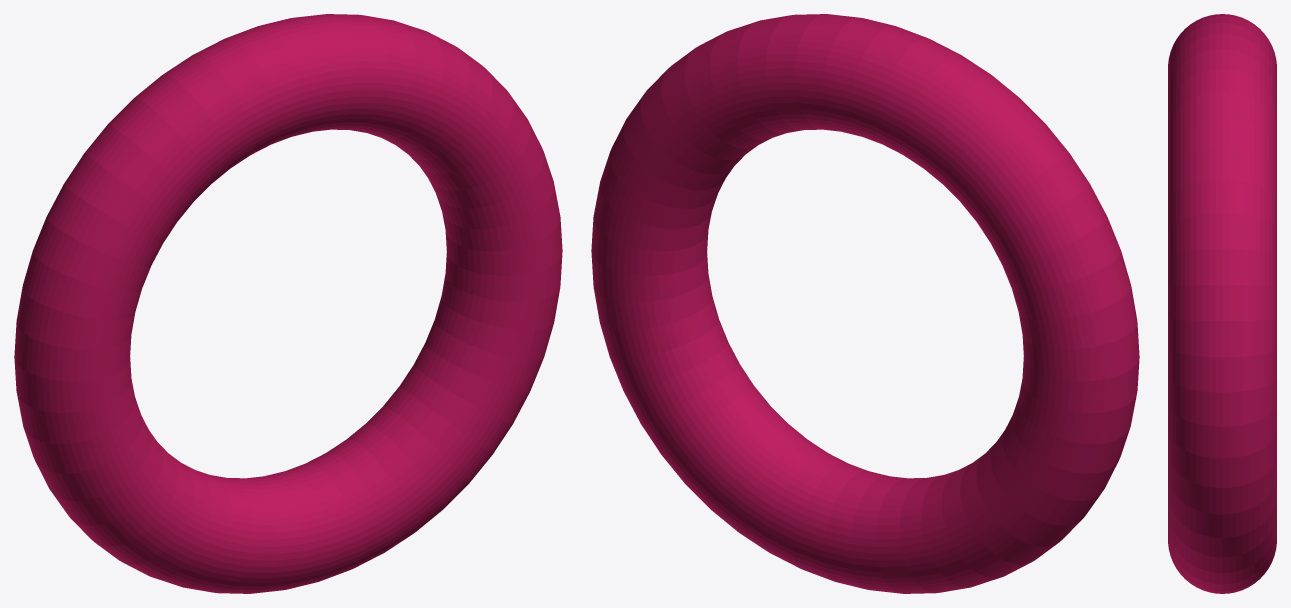
The picture shows the model from 3 angles, left to right: view 1: azimuth 30°, elevation 25°; view 2: azimuth 150°, elevation 25°; view 3: azimuth 270°, elevation 25°; orthographic projection. The views are drawn at different scales.
Parts seen in each view (by area): view 1: world; view 2: world; view 3: world.
Boxes of the visible parts, box(x1,y1,x2,y2) form: world: box(14, 14, 562, 593); world: box(591, 14, 1139, 593); world: box(1168, 14, 1276, 593).
Size of the model in its own units: 36.13 by 36.06 by 6.79.
